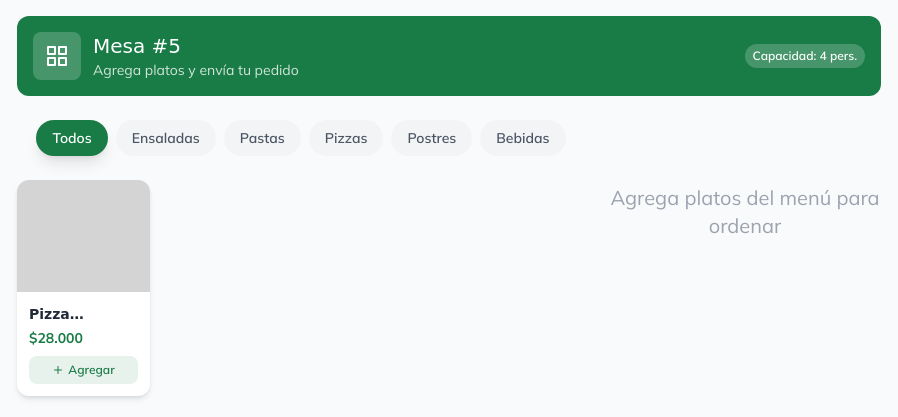
MesaPage › adds items to the cart and shows the total
Expected: the heading "Pizza Margarita" is shown, [29,306,107,342]
Click the button "Agregar". click: (84, 370)
box: [29,356,138,384]
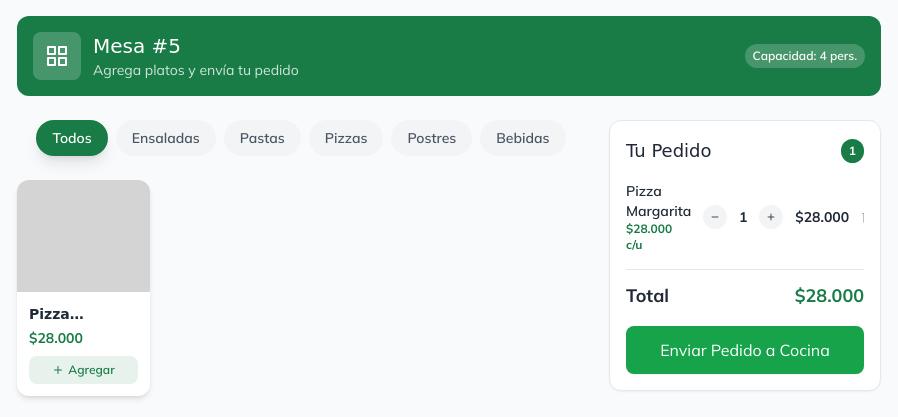
Click the button "Agregar". click: (84, 370)
box: [29,356,138,384]
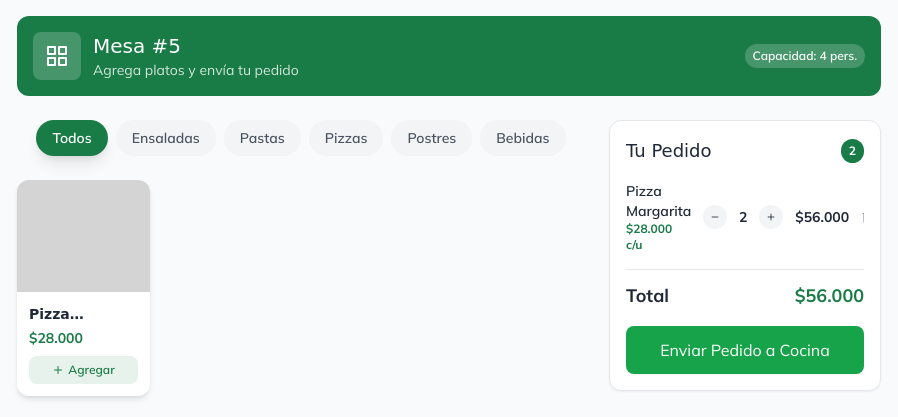
Expected: the heading "Tu Pedido" is shown, [626,137,712,165]
Expected: the 1st text "$56.000" is shown, [795,207,849,227]
